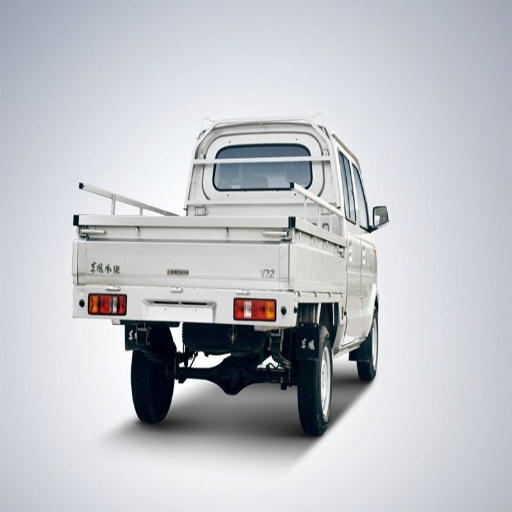trunk: (143, 206, 288, 302), (292, 235, 365, 345)
